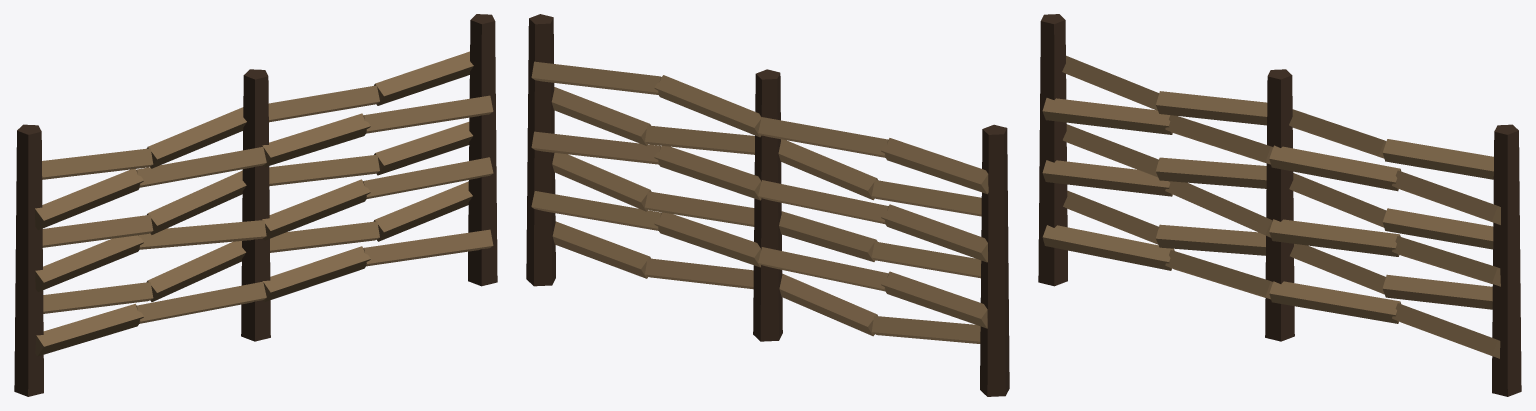
Rendered from forest_fence.glb.
3 renders of one model, left to right at view 1: azimuth 30°, elevation 25°; view 2: azimuth 150°, elevation 25°; view 3: azimuth 330°, elevation 25°, orthographic.
Parts seen in each view (by area): view 1: forest_fence; view 2: forest_fence; view 3: forest_fence.
Boxes of the visible parts, left/top/right/bottom form: forest_fence: left=14, top=14, right=497, bottom=396; forest_fence: left=526, top=14, right=1009, bottom=396; forest_fence: left=1038, top=14, right=1521, bottom=396.
Size of the model in its own units: 2.11 by 1.1 by 0.1868.
